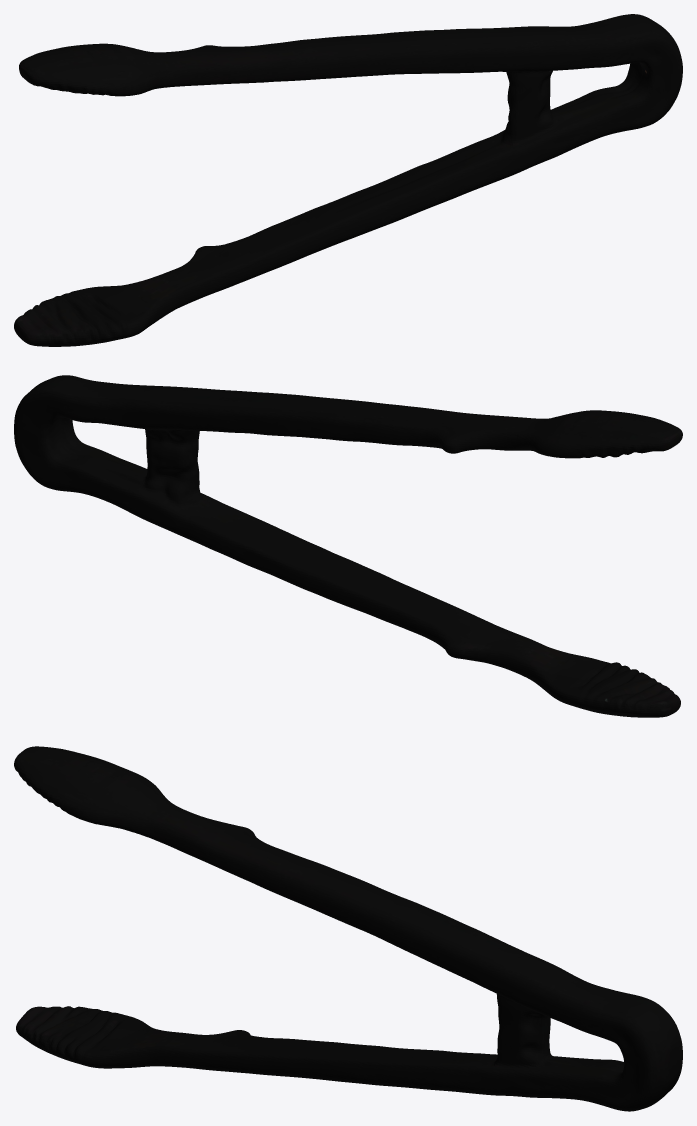
Rendered from black_tongs_black_plastic_tongs_pair_of_black_tongs_black_se_pbyiul.glb.
3 views of the same model, one above another, from view 1: azimuth 30°, elevation 25°; view 2: azimuth 150°, elevation 25°; view 3: azimuth 330°, elevation 25° (orthographic).
Parts seen in each view (by area): view 1: world; view 2: world; view 3: world.
Part boxes in pixels (left/top/right/bottom): world: left=14, top=14, right=682, bottom=346; world: left=14, top=375, right=682, bottom=717; world: left=14, top=746, right=682, bottom=1111.
Size of the model in its own units: 0.2306 by 0.0981 by 0.0304.
Materials: 1 (1 with a texture image).
